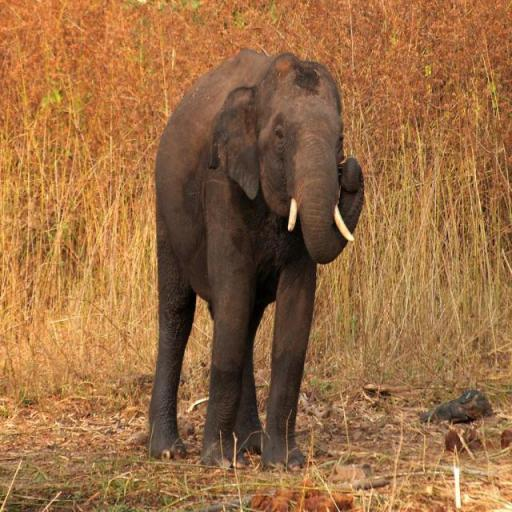Elephant: (147, 48, 365, 472)
